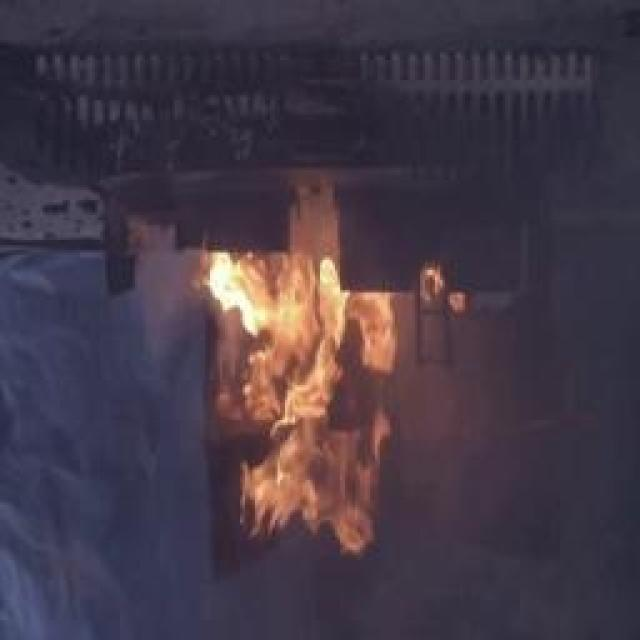fire: (202, 235, 408, 547)
